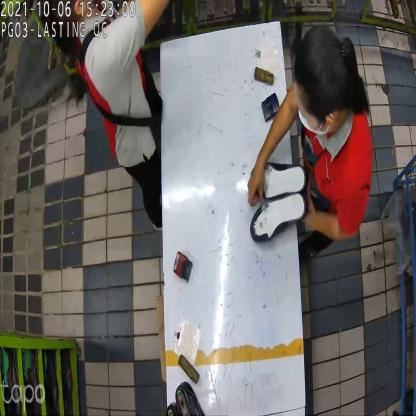shoes: (248, 151, 306, 244)
stamp: (172, 250, 194, 283), (260, 92, 279, 124)
